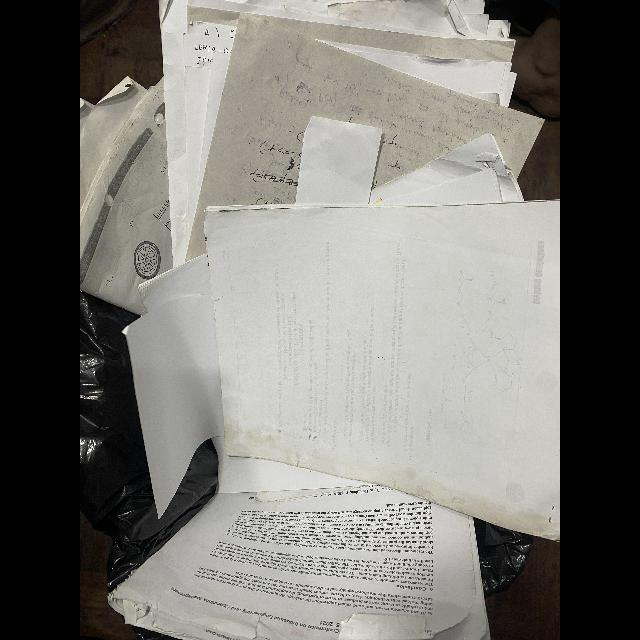paper: (205, 200, 560, 543), (184, 12, 543, 338), (107, 484, 492, 640), (121, 295, 224, 521), (81, 75, 174, 316), (295, 117, 382, 205)
